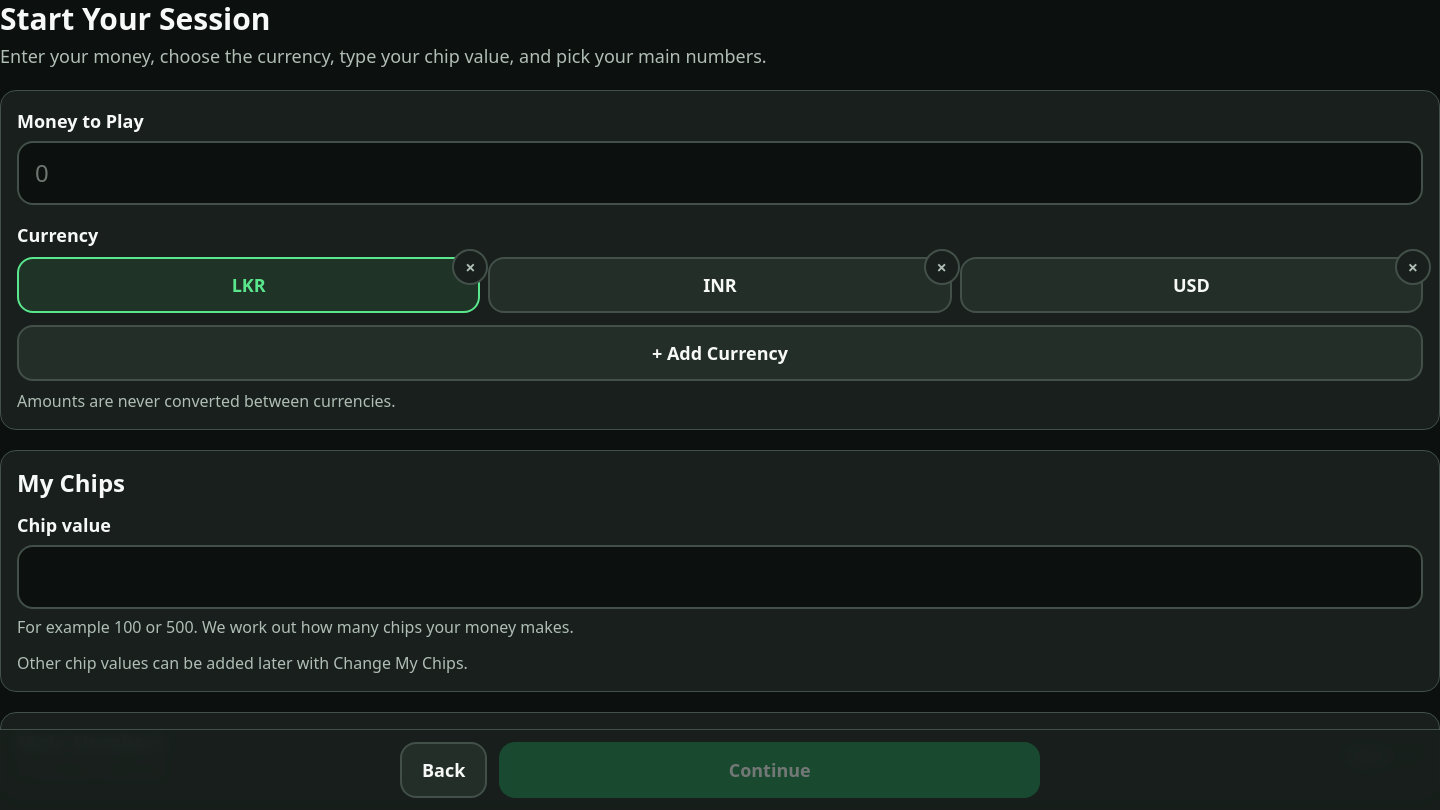
Test: Add Currency › shows a clear message for a code that is already listed
The width and height of the screenshot is (1440, 810).
Click the button "+ Add Currency" at (720, 352), box [17,324,1423,380]
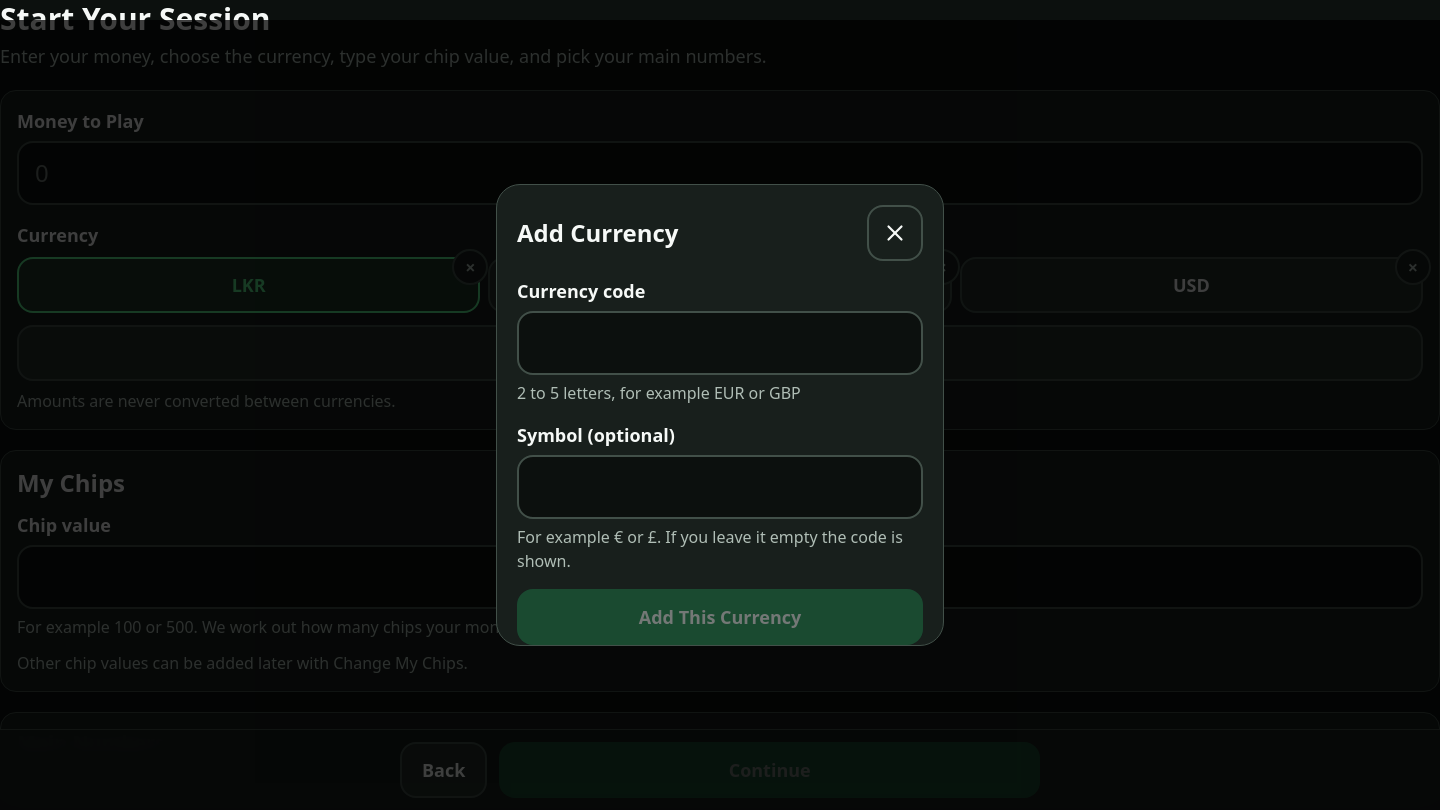
Type "usd" into the field labelled "Currency code" at (720, 343), box [517,311,923,375]
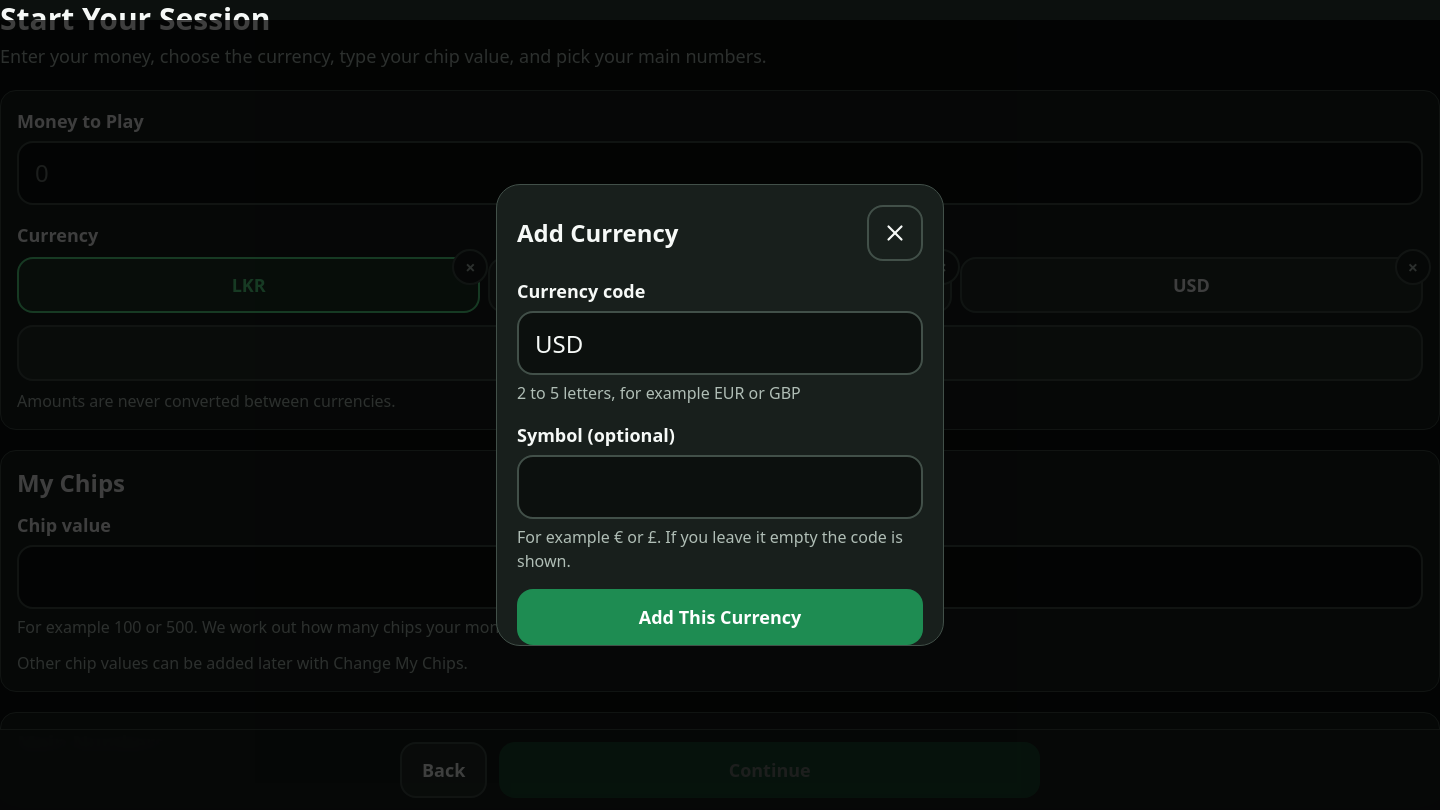
Click the button "Add This Currency" at (720, 617), box [517,589,923,645]
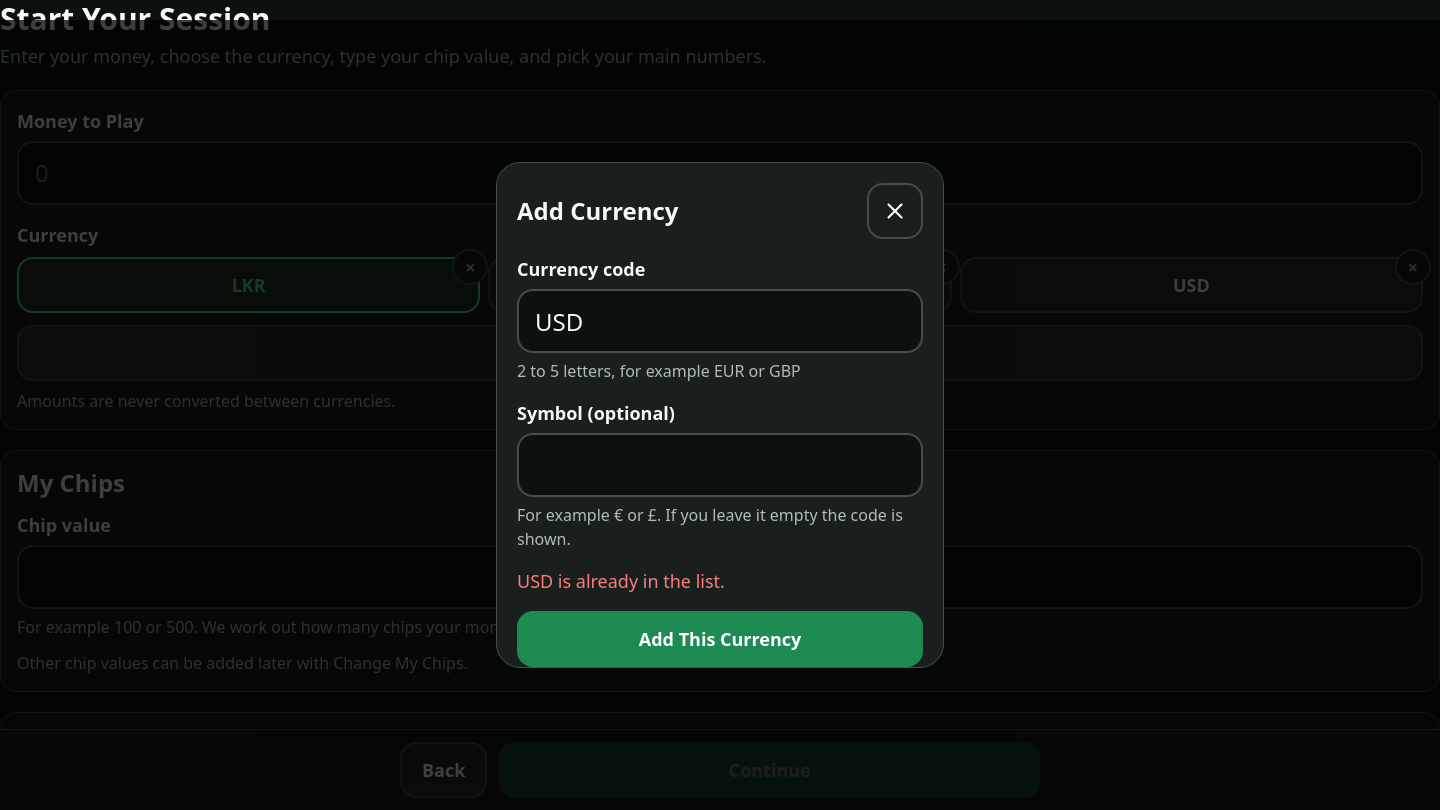
expect the number of radio buttons is 3: met, box [17,256,480,312]; [488,256,952,312]; [960,256,1423,312]
expect the message shows "USD is already in the list": met, box [517,569,725,593]
